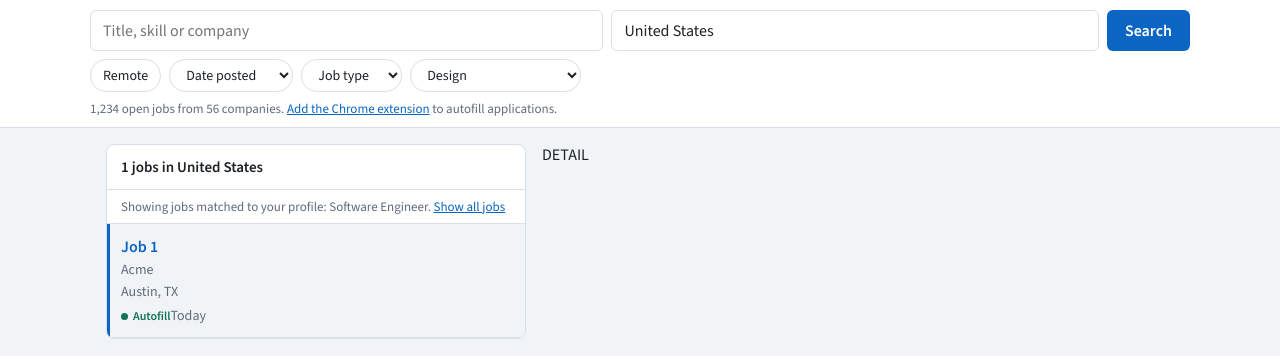
role filter › a chosen role hides the profile match wording
Select "Design" in the dropdown named "Role" at point(496, 76), box [410, 59, 581, 92]
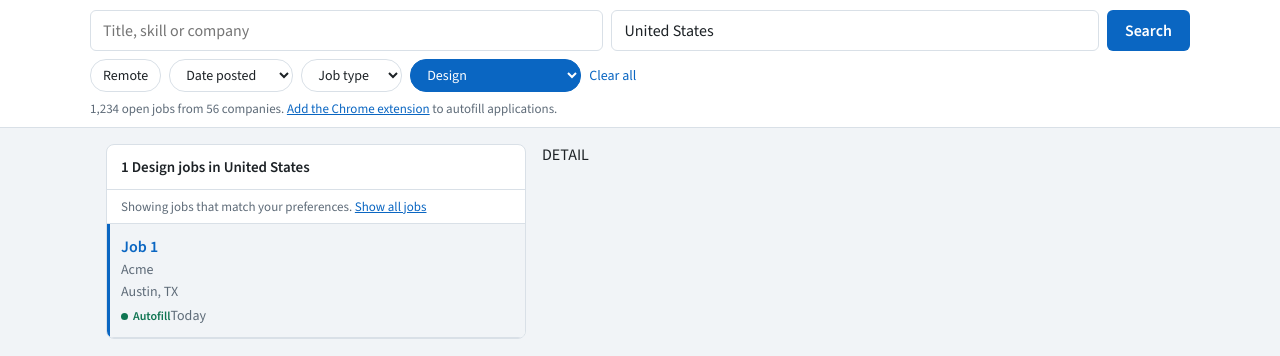
Check: the text "matched to your profile" is gone
